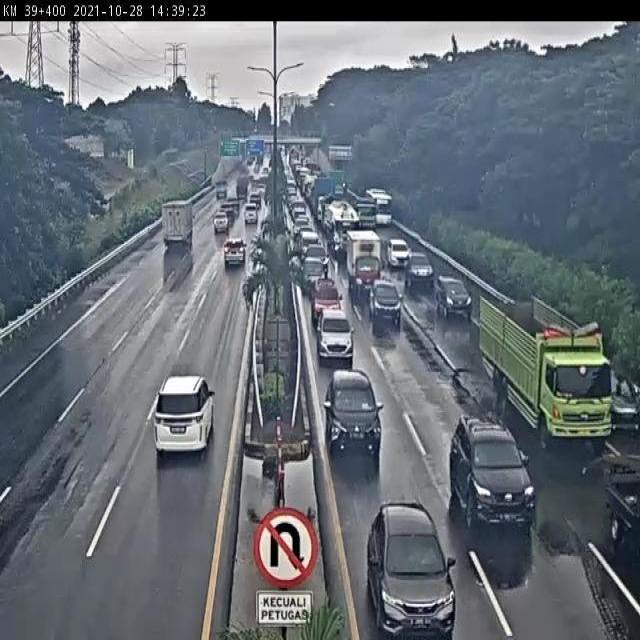car: (366, 507, 453, 633), (450, 420, 533, 528), (322, 368, 383, 455), (153, 374, 217, 454), (317, 311, 353, 361), (437, 274, 472, 318), (370, 283, 402, 324), (309, 274, 339, 314), (406, 253, 434, 284), (302, 244, 329, 271), (302, 257, 324, 288), (224, 240, 245, 268), (214, 213, 231, 239)
mid truck: (480, 301, 611, 448), (161, 202, 195, 255)
small truck: (345, 231, 382, 293)
